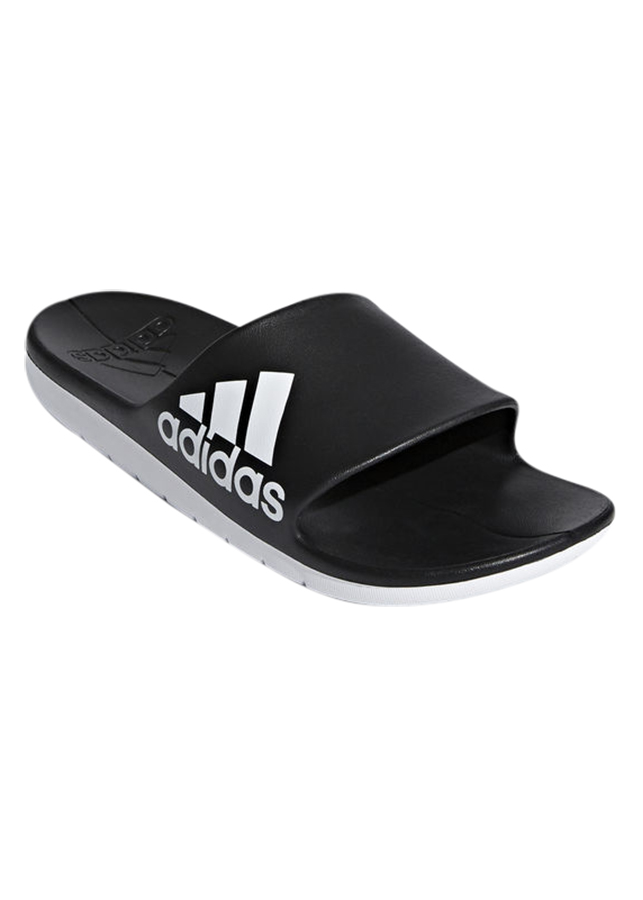Adidas: (153, 366, 300, 526), (61, 313, 176, 369)
